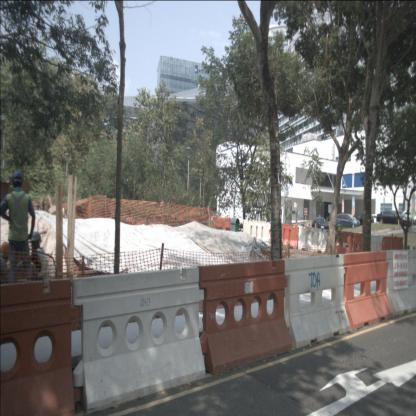barrier: (71, 266, 206, 413), (0, 278, 82, 416), (199, 260, 291, 376), (281, 253, 351, 350), (342, 250, 393, 330), (384, 248, 416, 317), (332, 230, 368, 260), (380, 235, 405, 269), (297, 228, 331, 252), (270, 222, 300, 249), (240, 219, 272, 244), (211, 216, 234, 244), (363, 236, 384, 266)
